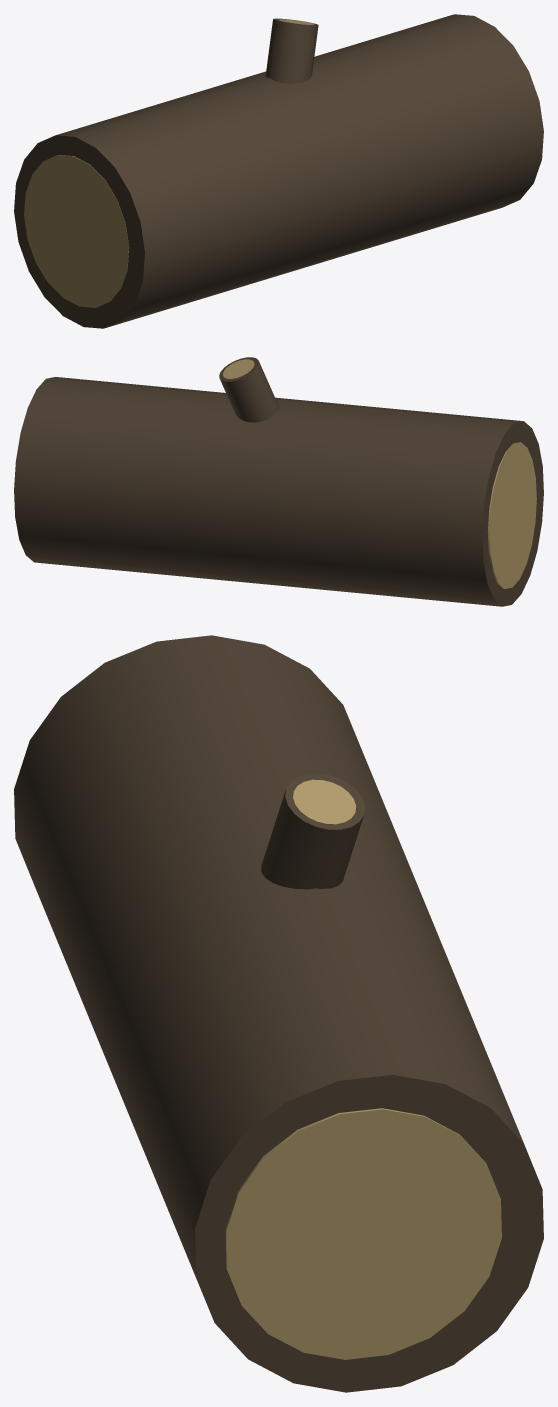
The model's file is log3,0.fbx.
3 renders of one model, top to bottom at view 1: azimuth 30°, elevation 25°; view 2: azimuth 150°, elevation 25°; view 3: azimuth 270°, elevation 25°, orthographic. The views are drawn at different scales.
Visible parts, largest first — view 1: pPipe2; view 2: pPipe2; view 3: pPipe2.
Part boxes in pixels (x1,y1,x2,y2): pPipe2: (14,14,543,328); pPipe2: (14,357,543,606); pPipe2: (14,635,543,1392).
Size of the model in its own units: 13.62 by 6.54 by 7.21.
